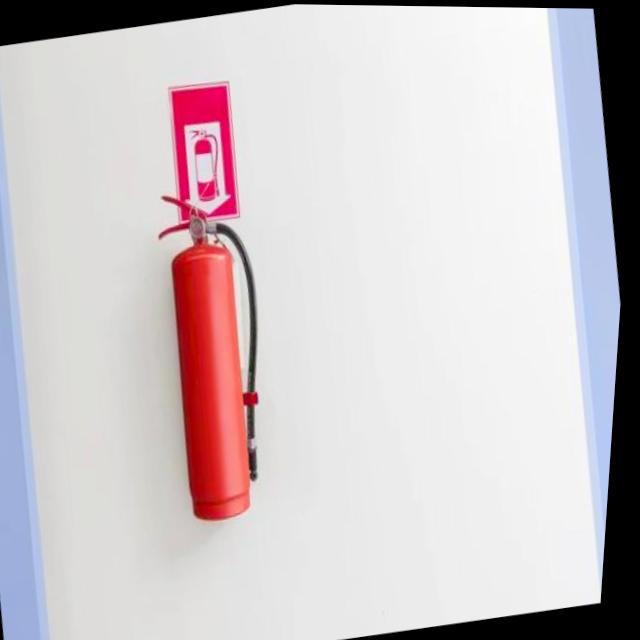FireExtinguisher: (133, 169, 303, 531)
